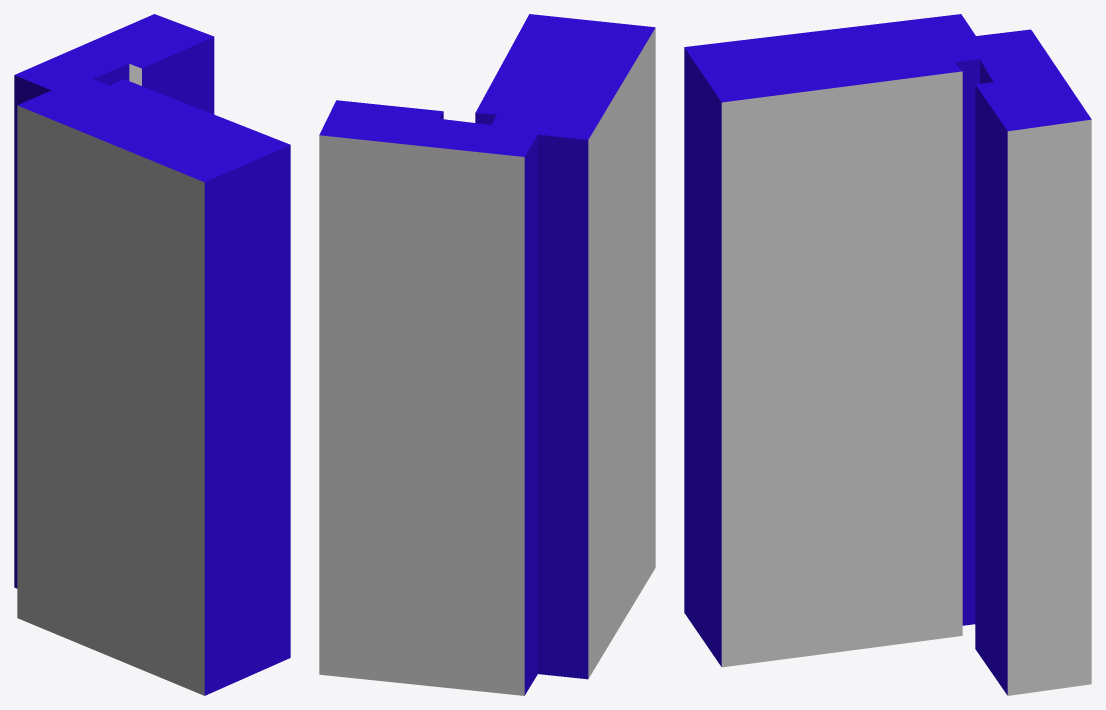
The model's file is building_009_1.fbx.
3 renders of one model, left to right at view 1: azimuth 30°, elevation 25°; view 2: azimuth 150°, elevation 25°; view 3: azimuth 270°, elevation 25°, orthographic. The views are drawn at different scales.
Visible parts, largest first — view 1: Areas:building.009; view 2: Areas:building.009; view 3: Areas:building.009.
Part boxes in pixels (x1,y1,x2,y2): Areas:building.009: [14, 14, 290, 695]; Areas:building.009: [319, 14, 655, 695]; Areas:building.009: [684, 14, 1091, 695].
Size of the model in its own units: 1890 by 4247 by 2775.
